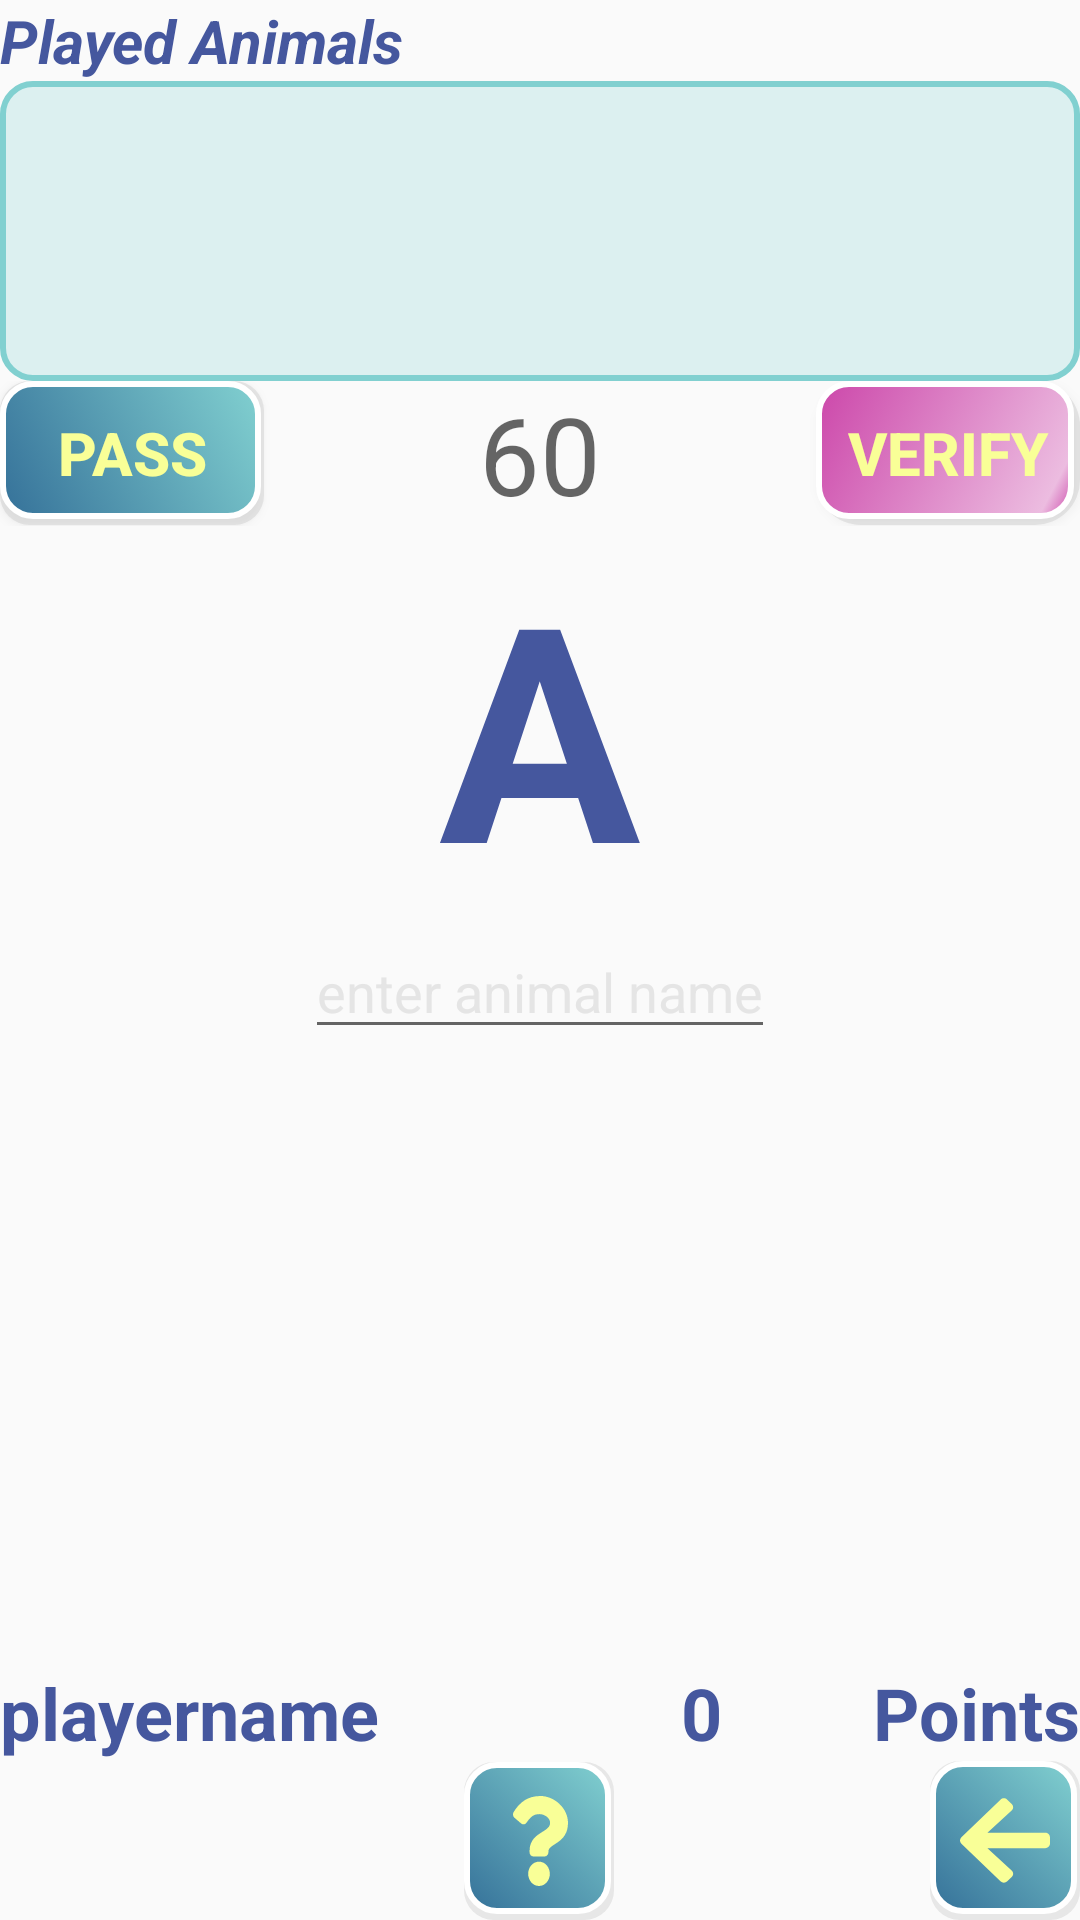

Icons on this 1080 × 1920 Android screen, each with its box as (x1, y1, x2, y2):
back: (936, 1767, 1071, 1908)
Rules: (470, 1768, 605, 1908)
